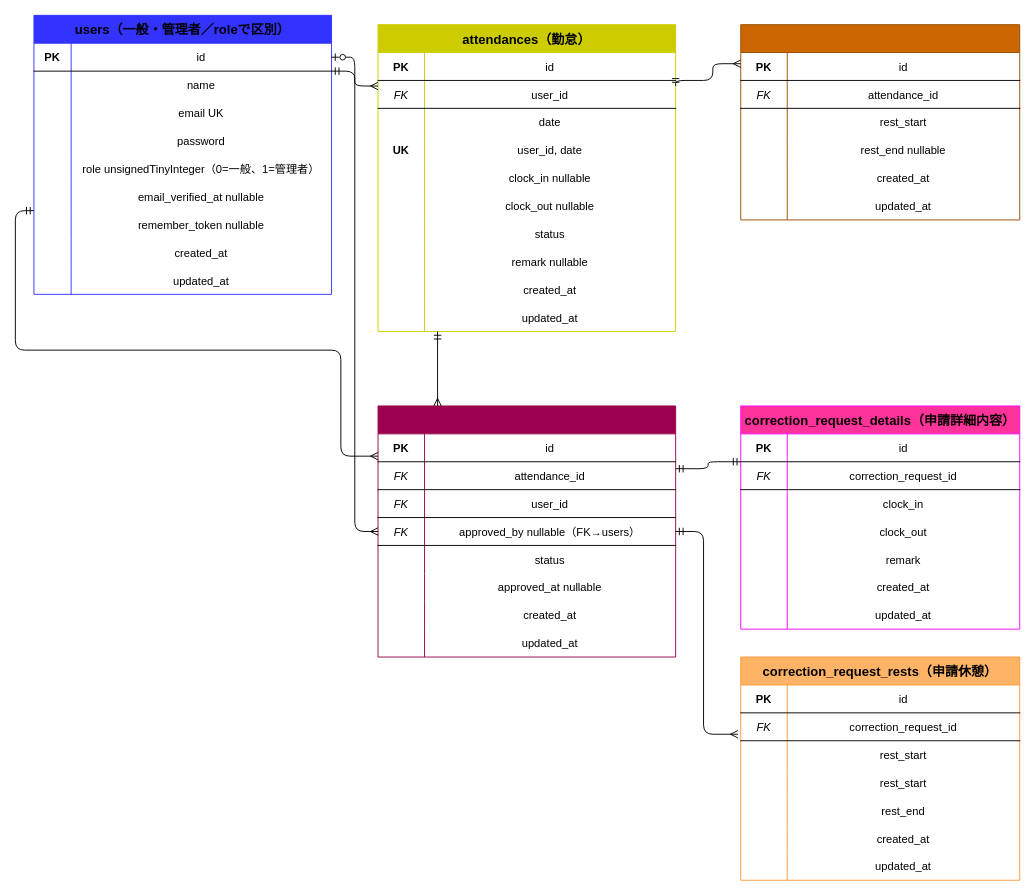
Some shapes in this 1035 by 896 pixel diagram are drawn without their labels. Each missing label, with the box of its shape:
correction_requests（修正申請）: (377, 405, 676, 657)
rests（休憩）: (740, 24, 1020, 220)
